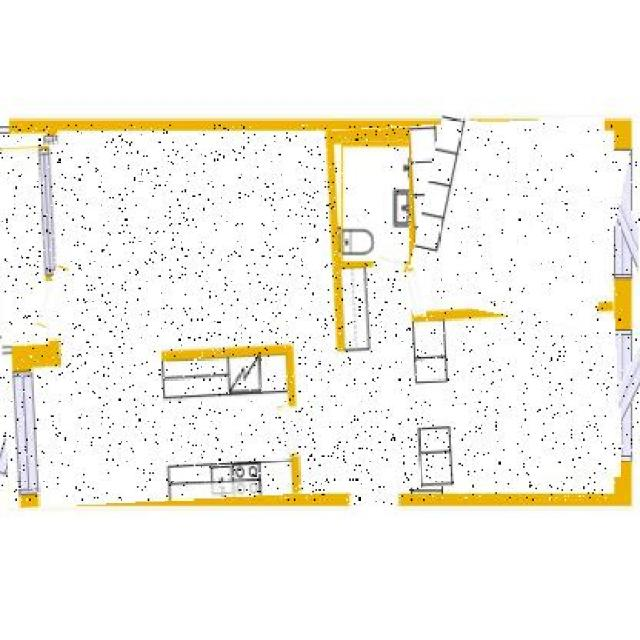door: (40, 264, 65, 328), (280, 405, 295, 457), (408, 268, 423, 317), (348, 494, 400, 504), (377, 257, 408, 271)
window: (601, 332, 640, 459), (601, 149, 640, 273), (1, 357, 37, 478), (45, 136, 60, 258)
zone: (0, 124, 615, 500), (412, 123, 622, 325), (340, 140, 409, 262)
